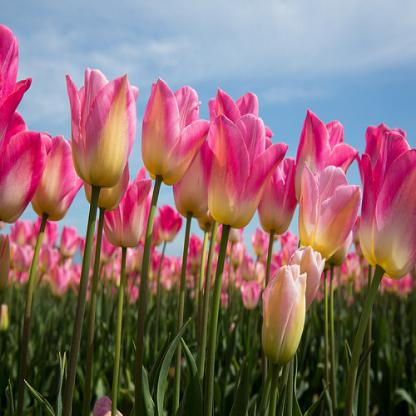TULIP: (2, 21, 416, 361)
